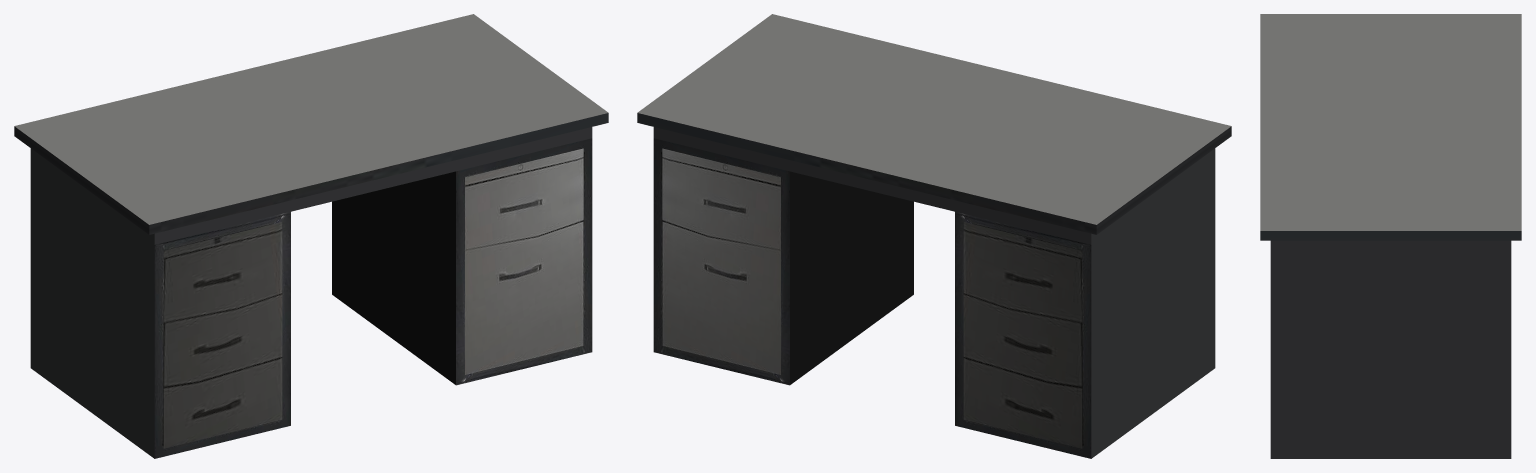
Rendered from yakuza_office_desk.FBX.
The picture shows the model from 3 angles, left to right: view 1: azimuth 30°, elevation 25°; view 2: azimuth 150°, elevation 25°; view 3: azimuth 270°, elevation 25°; orthographic projection. The views are drawn at different scales.
Parts seen in each view (by area): view 1: yakuza_office_desk; view 2: yakuza_office_desk; view 3: yakuza_office_desk.
Part boxes in pixels (x1,y1,x2,y2): yakuza_office_desk: (14,14,608,458); yakuza_office_desk: (637,14,1231,458); yakuza_office_desk: (1260,14,1521,458).
Bounding box in the file's own units: 160 × 80.29 × 81.69.
